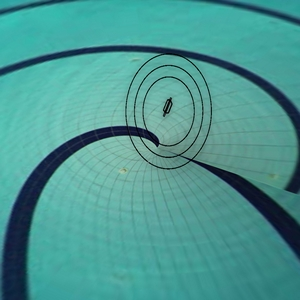circle: (110, 38, 224, 178)
submarine: (154, 92, 179, 121)
